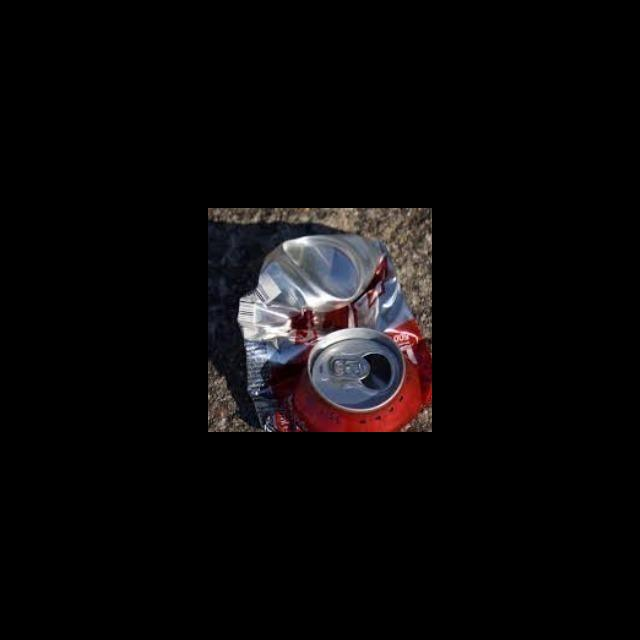metal: (232, 226, 432, 432)
